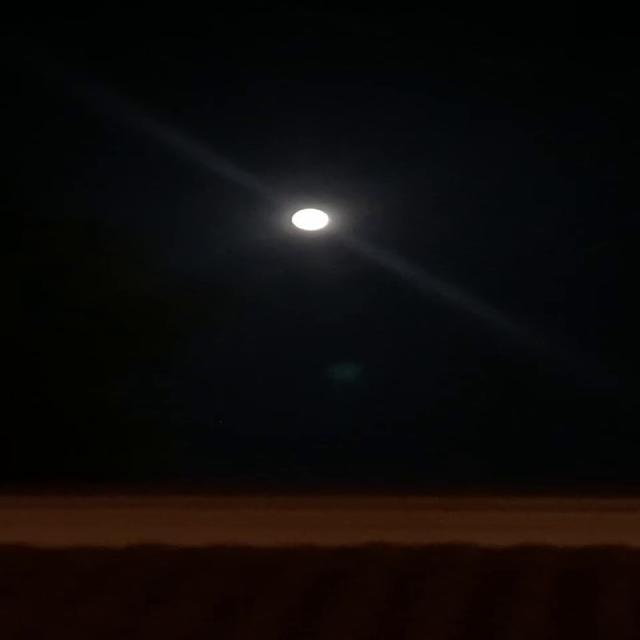moon: (286, 203, 336, 236)
